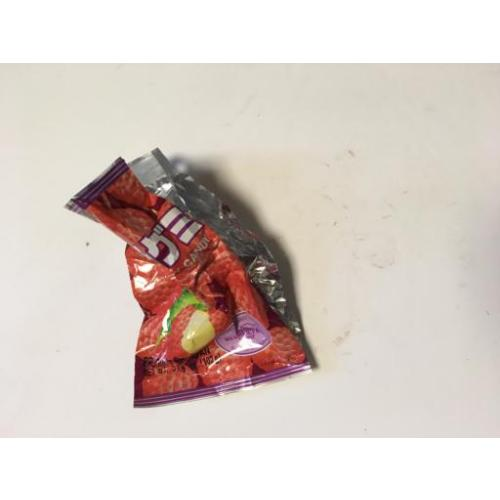plastic: (64, 148, 317, 408)
